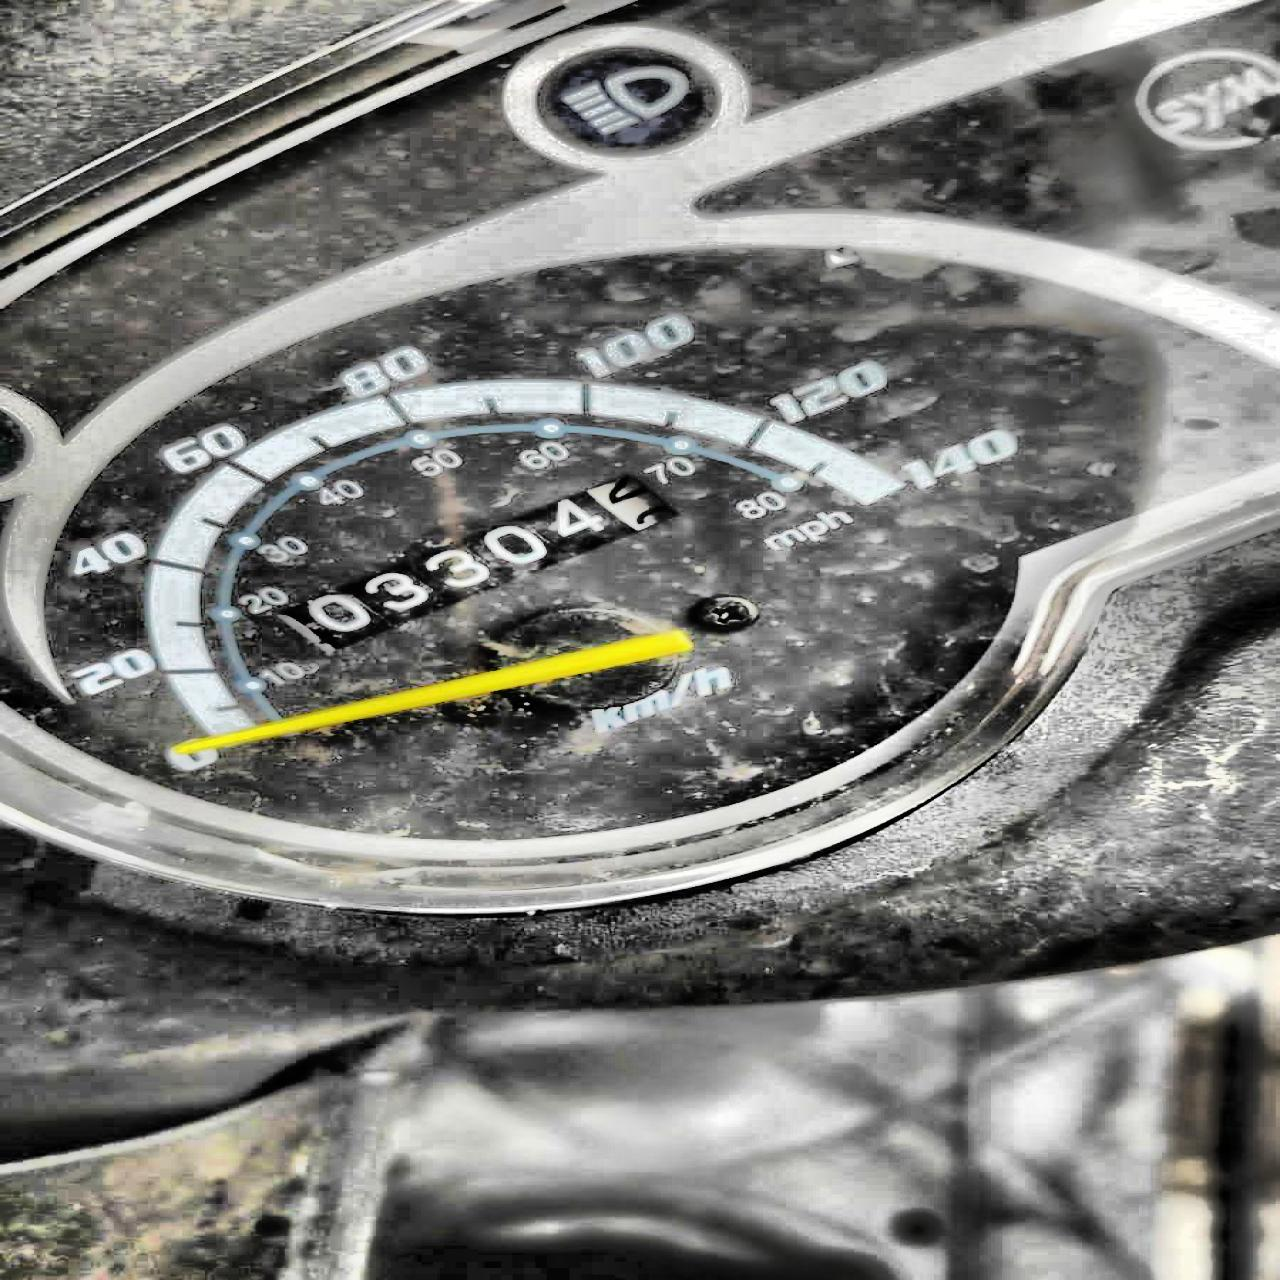0: (307, 592, 374, 632), (483, 524, 545, 564), (278, 536, 306, 553), (335, 479, 360, 498), (263, 587, 285, 605)
2: (594, 474, 649, 505)
3: (361, 570, 429, 610), (423, 546, 489, 587), (263, 544, 286, 563)
4: (552, 499, 604, 538), (313, 486, 342, 504)
7: (642, 467, 668, 485)
odometer: (260, 467, 683, 655)
